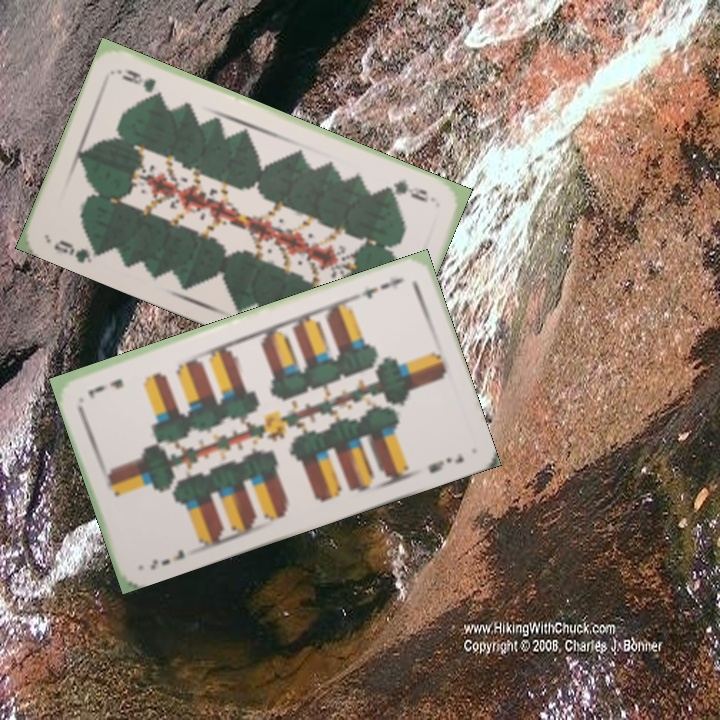E7: (353, 273, 406, 302), (146, 545, 188, 572)
G9: (382, 176, 430, 205), (50, 236, 95, 266)
